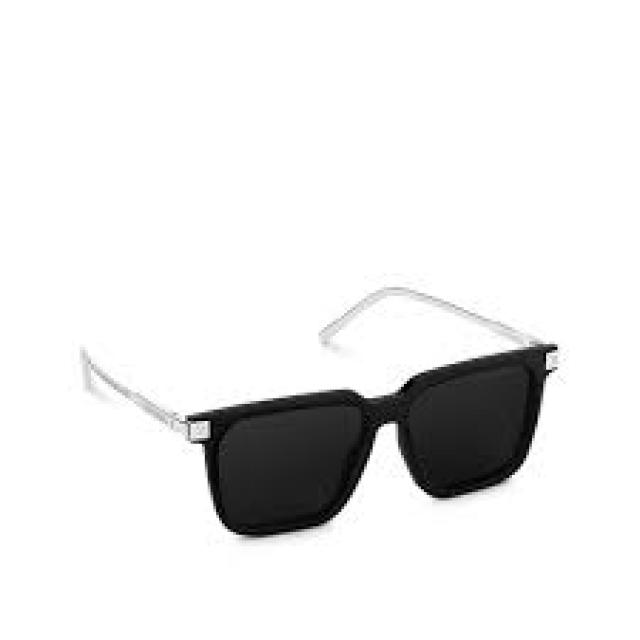sunglasses: (170, 349, 550, 536)
